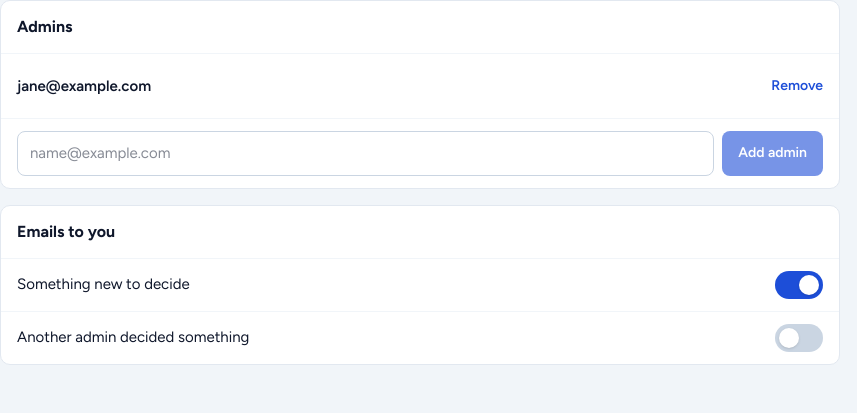
TeamManager › shows a server-side error and leaves the typed email in place
The image size is (857, 413).
Type "not-an-email" into the field named "Email". click: (366, 153)
box: [17,131,714,176]
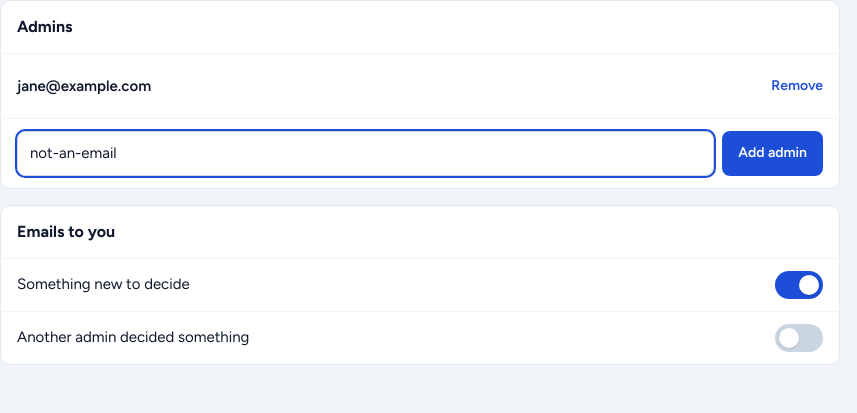
Click the button "Add admin". click: (773, 153)
box: [722,131,823,176]
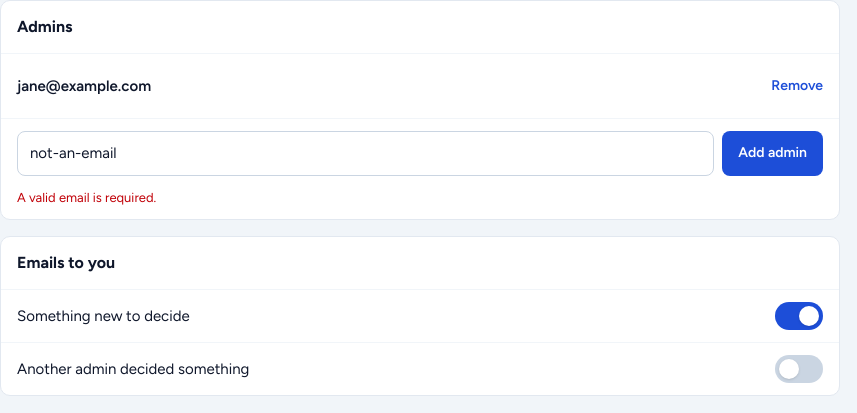
expect the text "A valid email is required." is shown: met, box [17,190,156,204]
